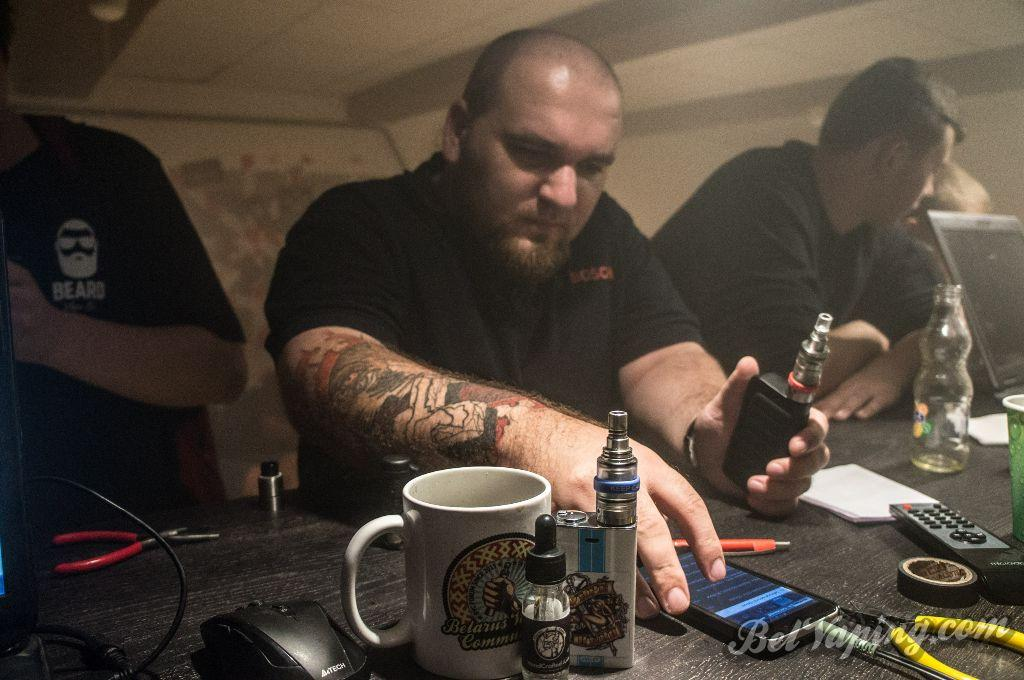Vape: (555, 410, 640, 668), (723, 314, 833, 495)
